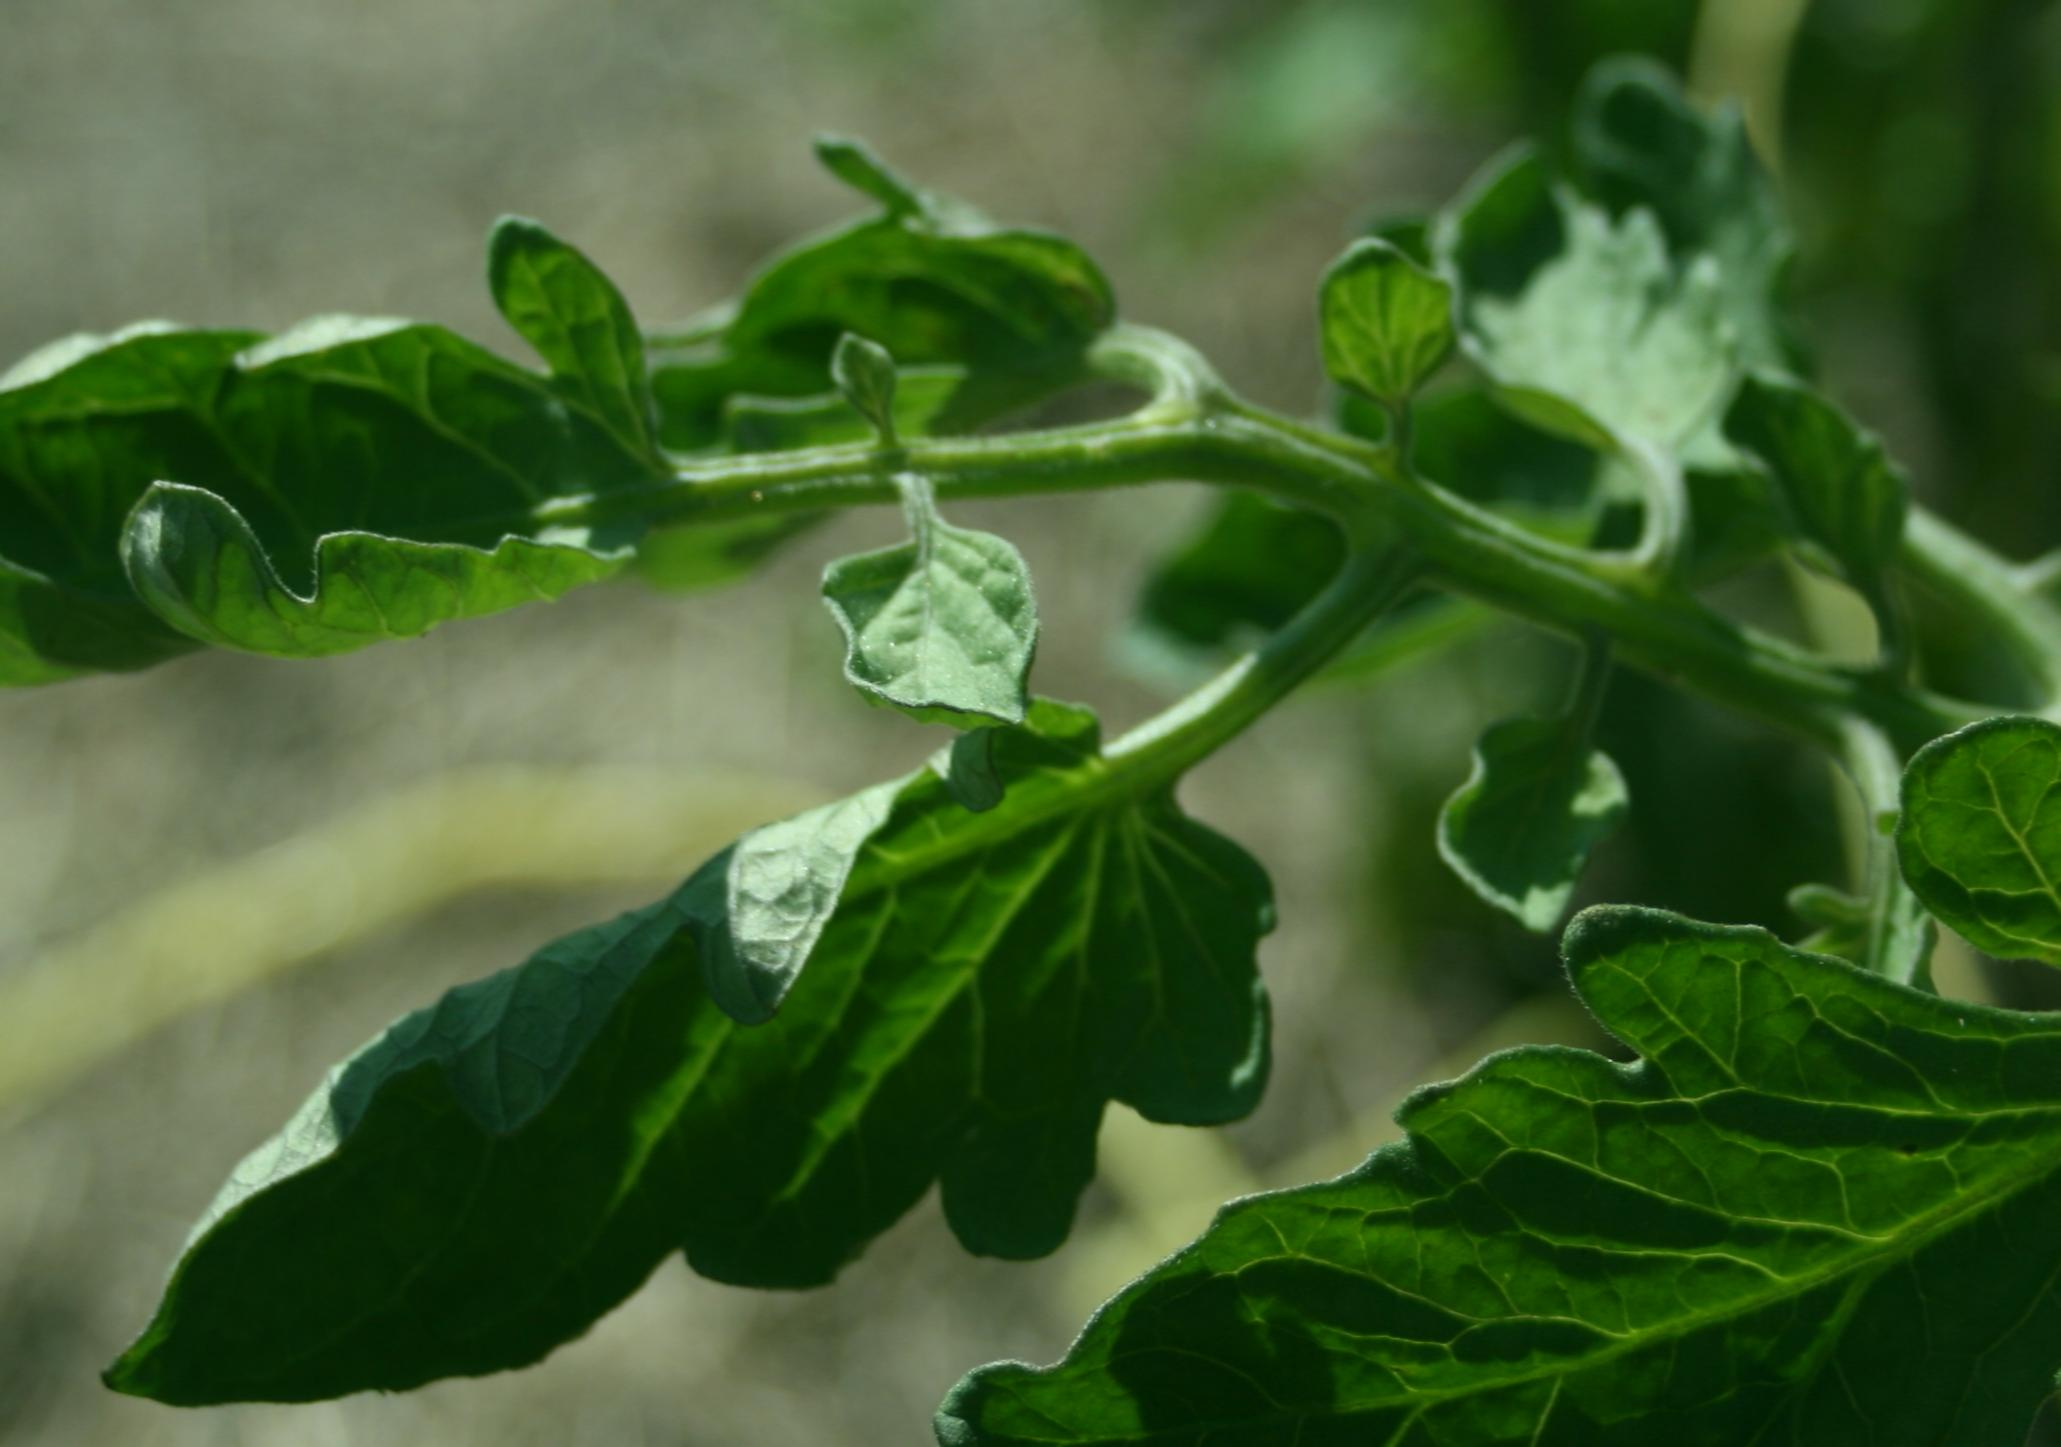Tomato leaf: (114, 689, 1247, 1427), (938, 860, 2061, 1447), (0, 179, 857, 774)
